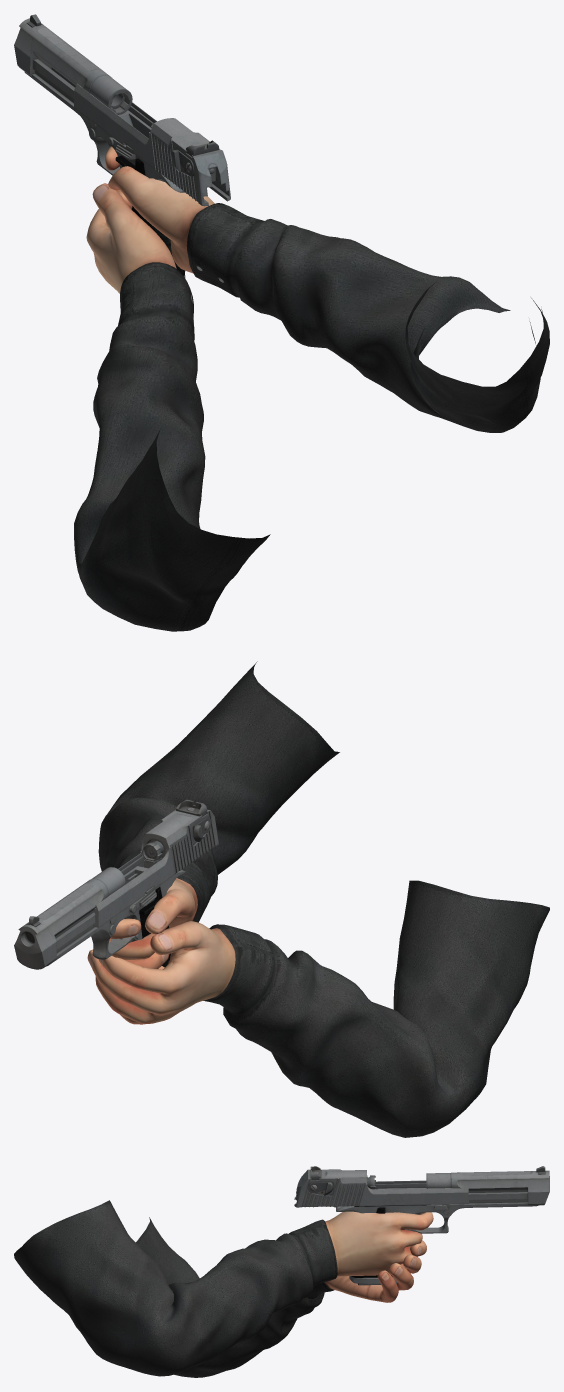
File: gunhand.glb
3 renders of one model, top to bottom at view 1: azimuth 30°, elevation 25°; view 2: azimuth 150°, elevation 25°; view 3: azimuth 270°, elevation 25°, orthographic. The views are drawn at different scales.
Parts seen in each view (by area): view 1: hand, gun; view 2: hand, gun; view 3: hand, gun.
Boxes of the visible parts, <box> form: hand: <box>74,146,549,631</box>; gun: <box>14,14,230,277</box>; hand: <box>87,661,549,1137</box>; gun: <box>14,799,218,969</box>; hand: <box>14,1200,433,1377</box>; gun: <box>294,1166,549,1285</box>.
Bounding box in the file's own units: 0.4836 × 0.4191 × 0.7968.
Materials: 2 (2 with a texture image).
